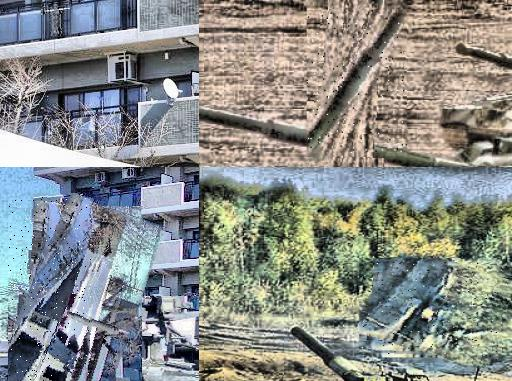tanks: (9, 195, 91, 381), (308, 10, 407, 155), (360, 260, 502, 358), (293, 328, 430, 381), (436, 93, 512, 149), (459, 45, 512, 69)
